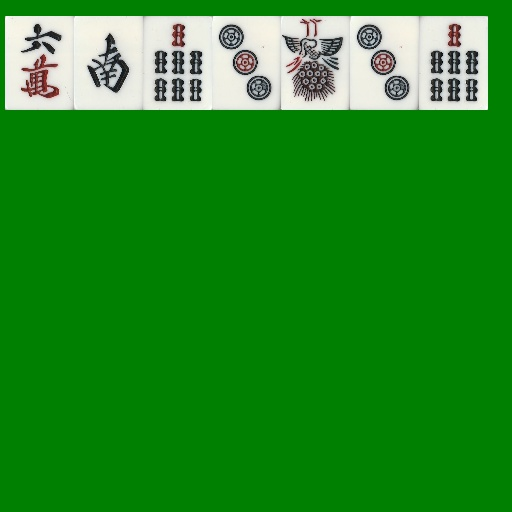1s: (281, 16, 350, 110)
3p: (212, 16, 281, 110), (350, 16, 419, 110)
6m: (5, 16, 74, 110)
7s: (143, 16, 212, 110), (419, 16, 488, 110)
south: (74, 16, 143, 110)
